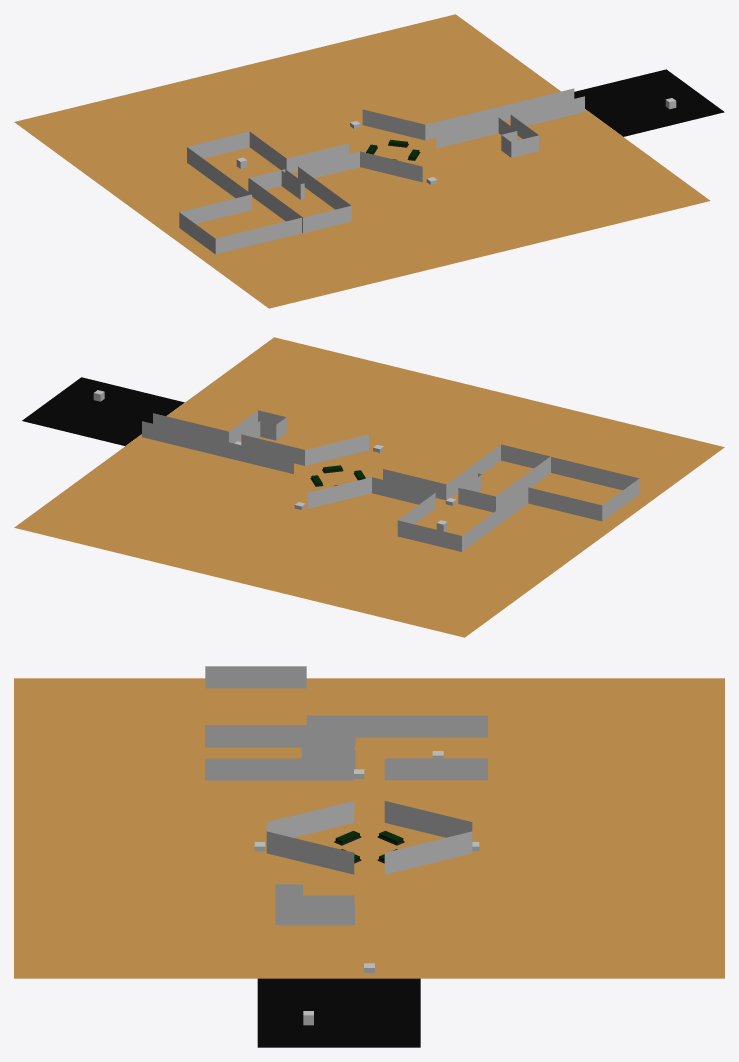
The model's file is mall_greybox.obj.
3 renders of one model, top to bottom at view 1: azimuth 30°, elevation 25°; view 2: azimuth 150°, elevation 25°; view 3: azimuth 270°, elevation 25°, orthographic. The views are drawn at different scales.
Visible parts, largest first — view 1: Btm_Floor_Floor_Floor, off, Outside_Asphelt_Material; view 2: Btm_Floor_Floor_Floor, off, Outside_Asphelt_Material; view 3: Btm_Floor_Floor_Floor, off, Outside_Asphelt_Material.
Part boxes in pixels (x1,y1,x2,y2): Btm_Floor_Floor_Floor: (14,14,710,308); off: (179,88,676,254); Outside_Asphelt_Material: (574,69,724,136); Btm_Floor_Floor_Floor: (14,337,724,637); off: (93,390,639,551); Outside_Asphelt_Material: (22,377,184,445); Btm_Floor_Floor_Floor: (14,678,724,978); off: (205,666,487,1025); Outside_Asphelt_Material: (257,978,420,1047).
Size of the model in its own units: 161 by 5.55 by 131.
